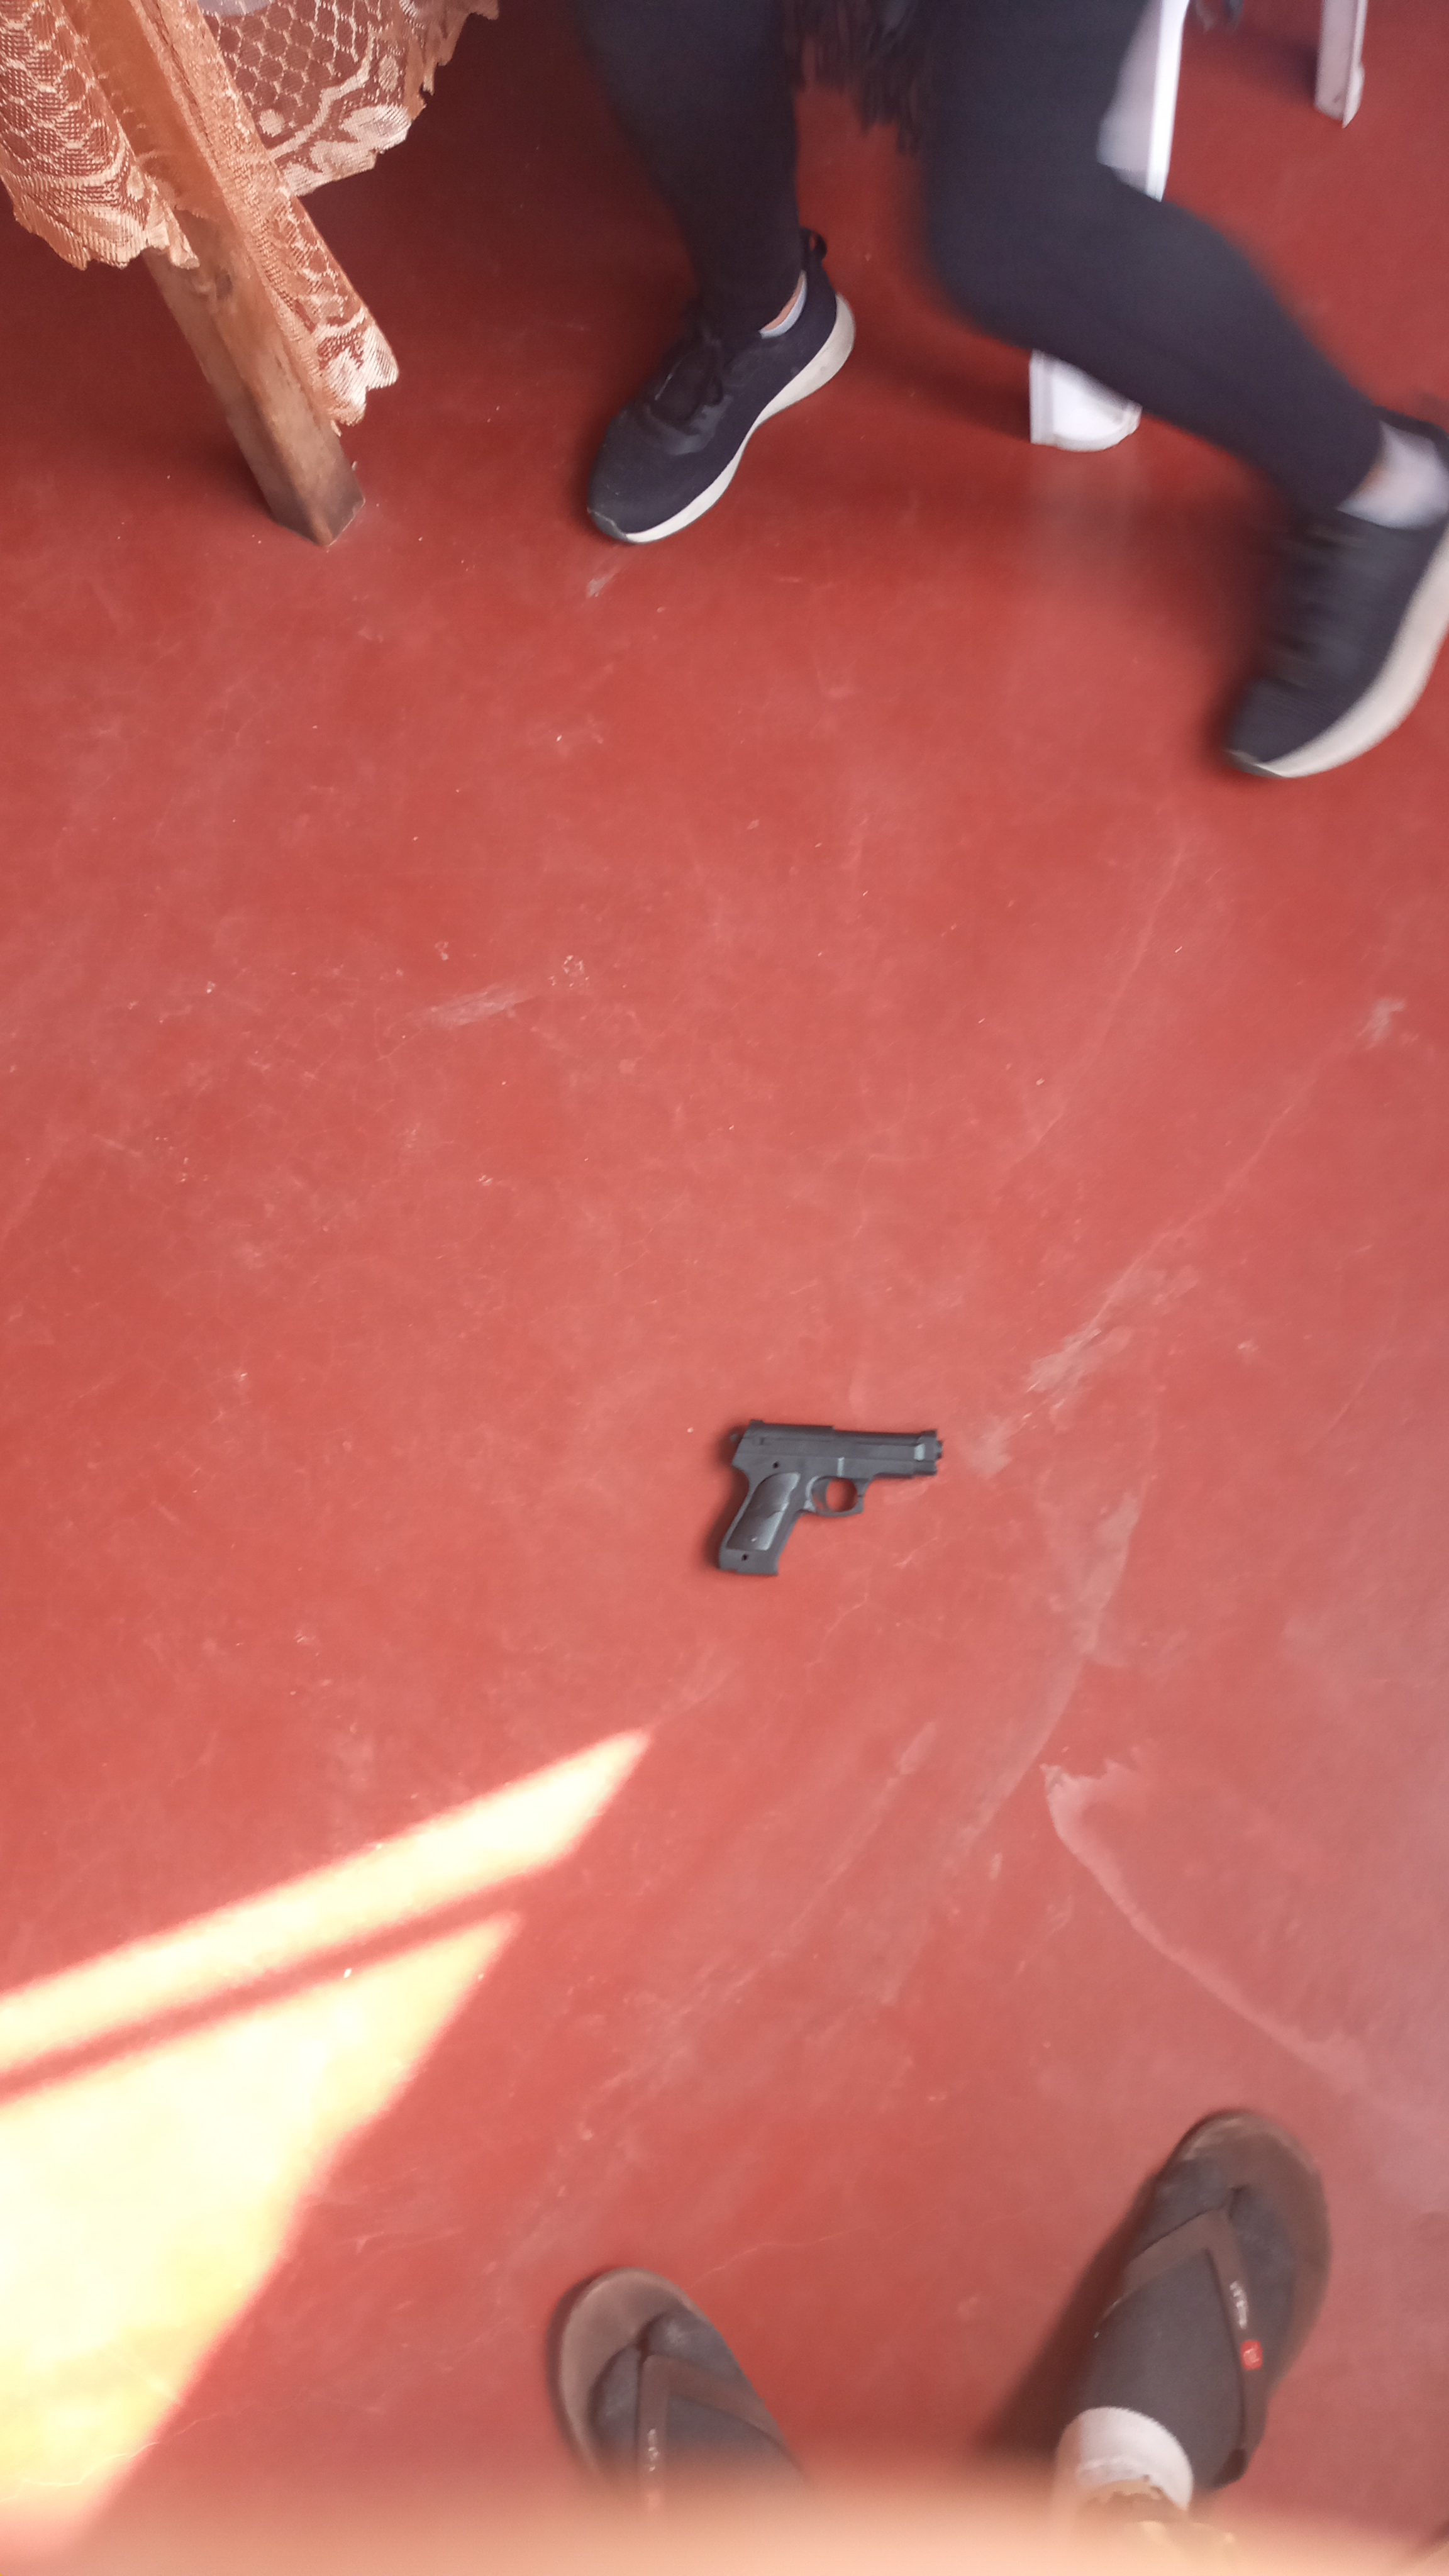Arma: (715, 1414, 941, 1539)
